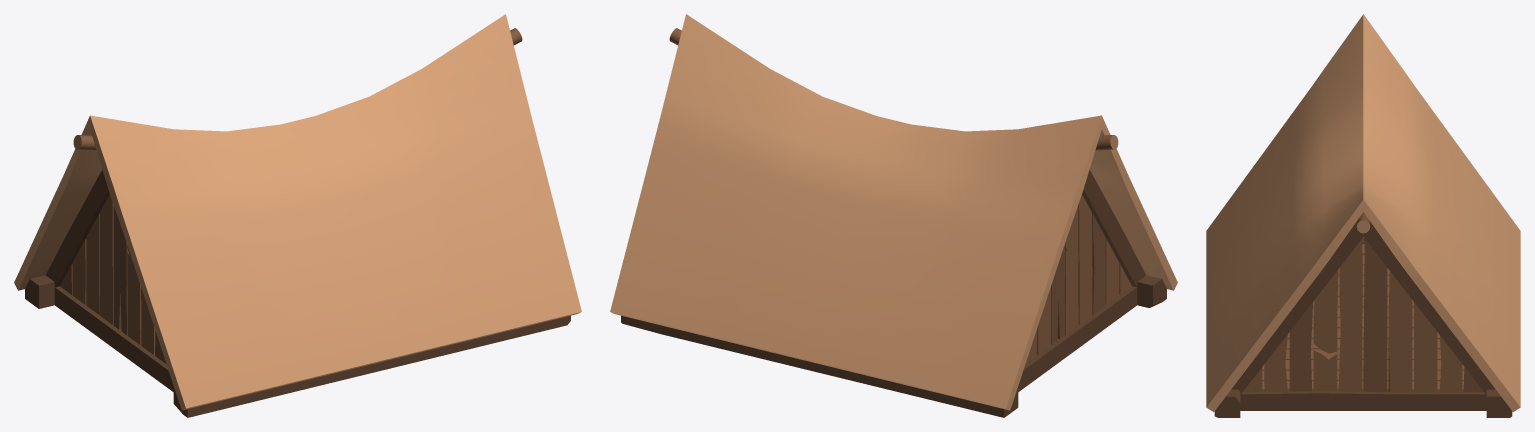
Rendered from Roof_01.fbx.
3 renders of one model, left to right at view 1: azimuth 30°, elevation 25°; view 2: azimuth 150°, elevation 25°; view 3: azimuth 270°, elevation 25°, orthographic. The views are drawn at different scales.
Parts seen in each view (by area): view 1: Roof_01_LOD0; view 2: Roof_01_LOD0; view 3: Roof_01_LOD0.
Part boxes in pixels (<box>): Roof_01_LOD0: <box>14,14,581,417</box>; Roof_01_LOD0: <box>610,14,1177,417</box>; Roof_01_LOD0: <box>1206,14,1520,417</box>.
Size of what is drawn, in the model's own units: 5.14 by 2.73 by 3.44.
